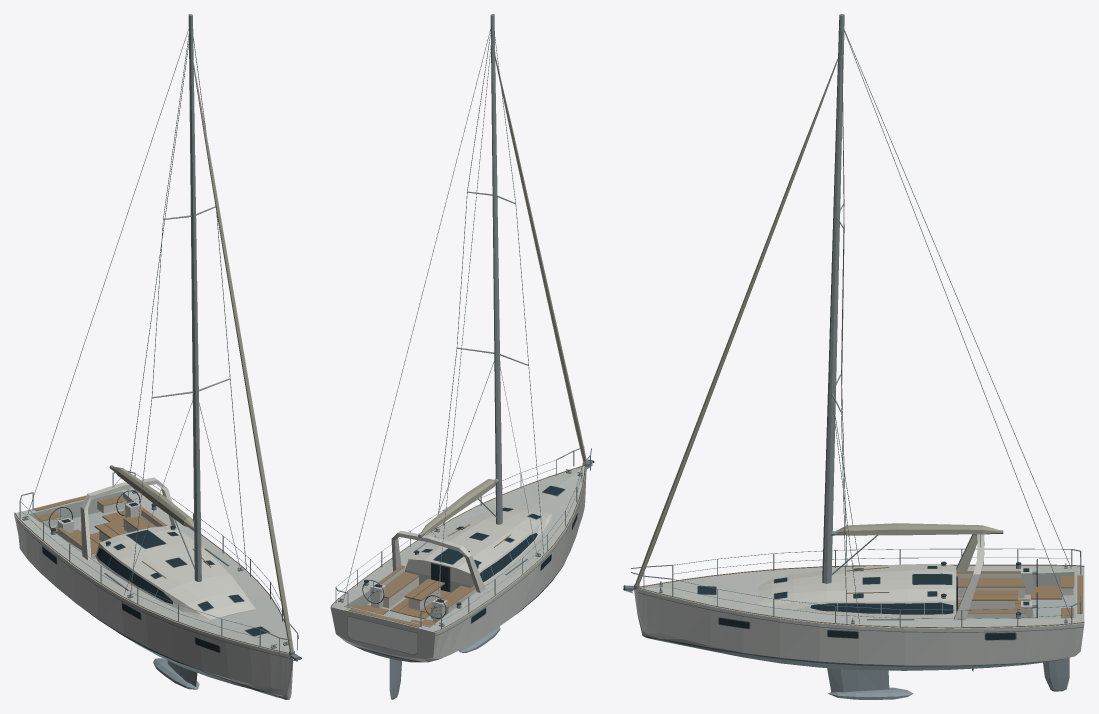
Rendered from KJP_Oceanis48.glb.
3 views of the same model, side by side, from view 1: azimuth 30°, elevation 25°; view 2: azimuth 150°, elevation 25°; view 3: azimuth 270°, elevation 25° (orthographic). The views are drawn at different scales.
Parts seen in each view (by area): view 1: KJP_Oceanis48; view 2: KJP_Oceanis48; view 3: KJP_Oceanis48.
Part boxes in pixels (left/top/right/bottom): KJP_Oceanis48: left=14, top=14, right=301, bottom=699; KJP_Oceanis48: left=330, top=14, right=594, bottom=699; KJP_Oceanis48: left=623, top=14, right=1084, bottom=699.
Bounding box in the file's own units: 4.74 × 23.86 × 14.61.
